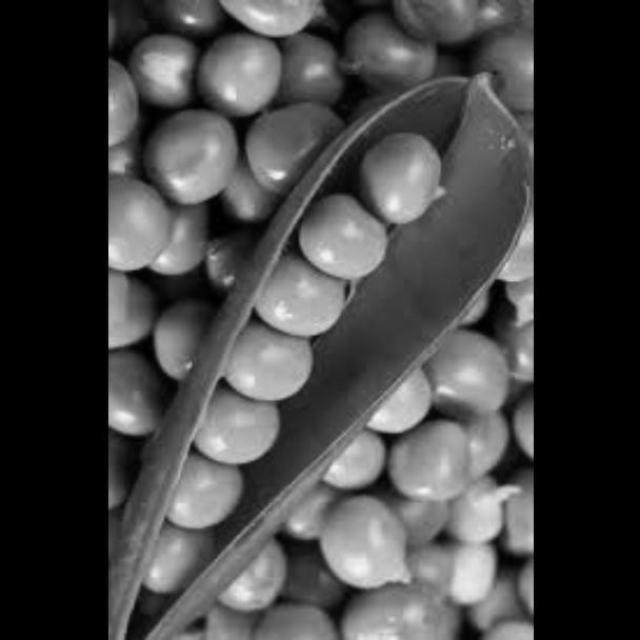dau ha lan: (108, 0, 534, 640), (244, 278, 367, 379), (345, 150, 457, 250), (200, 344, 320, 424), (130, 516, 232, 604), (163, 453, 254, 543), (297, 212, 393, 297), (204, 417, 289, 474)
